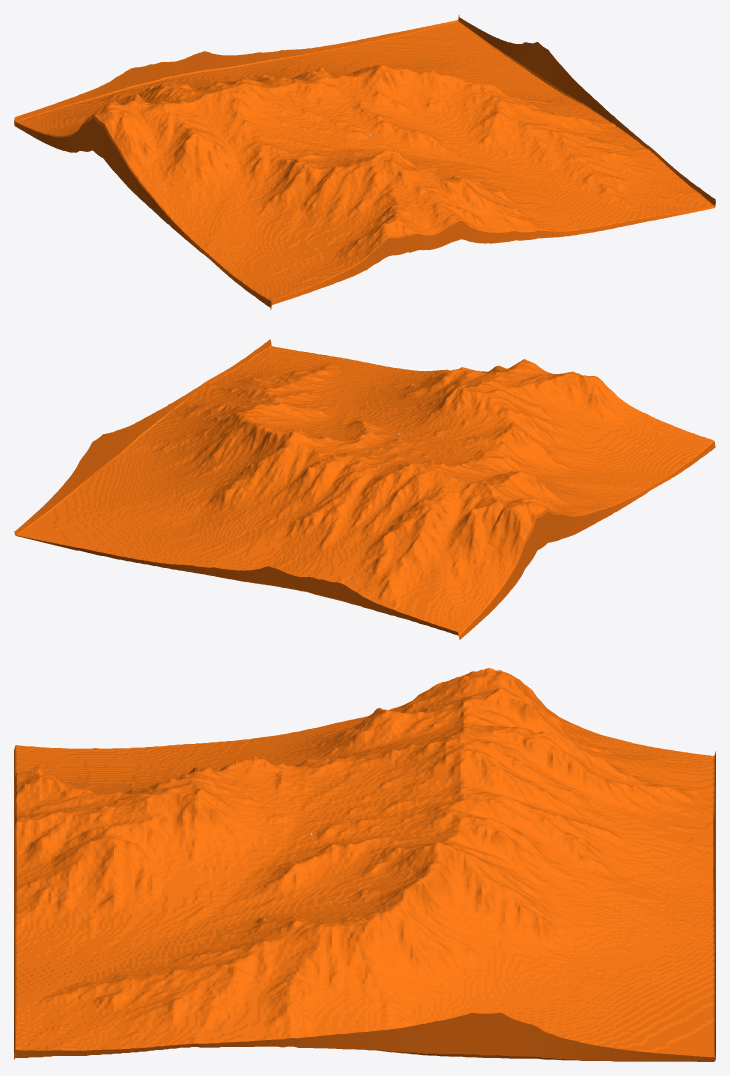
File: landscapecomcor.fbx
3 renders of one model, top to bottom at view 1: azimuth 30°, elevation 25°; view 2: azimuth 150°, elevation 25°; view 3: azimuth 270°, elevation 25°, orthographic. The views are drawn at different scales.
Visible parts, largest first — view 1: Plane; view 2: Plane; view 3: Plane.
Boxes of the visible parts, <box> form: Plane: <box>14,15,715,309</box>; Plane: <box>14,339,715,639</box>; Plane: <box>14,668,715,1061</box>.
Size of the model in its own units: 10000 by 1717 by 10000.
